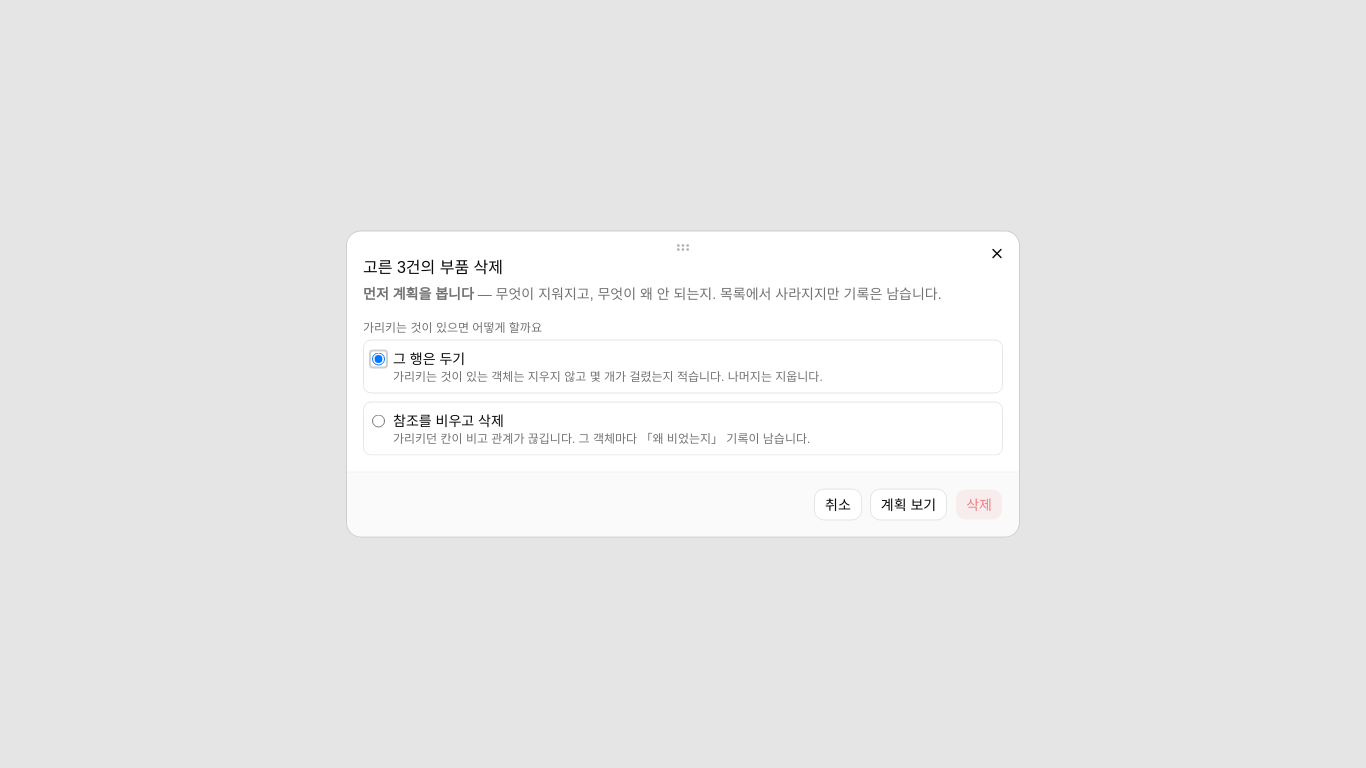
Test case: 여럿 골라 삭제 › 계획을 먼저 보고, 지울 것이 있어야 삭제할 수 있다
The width and height of the screenshot is (1366, 768).
Expected: the button "삭제" is disabled, [955,488,1003,520]
Click the button "계획 보기": (908, 504) [870,488,947,520]
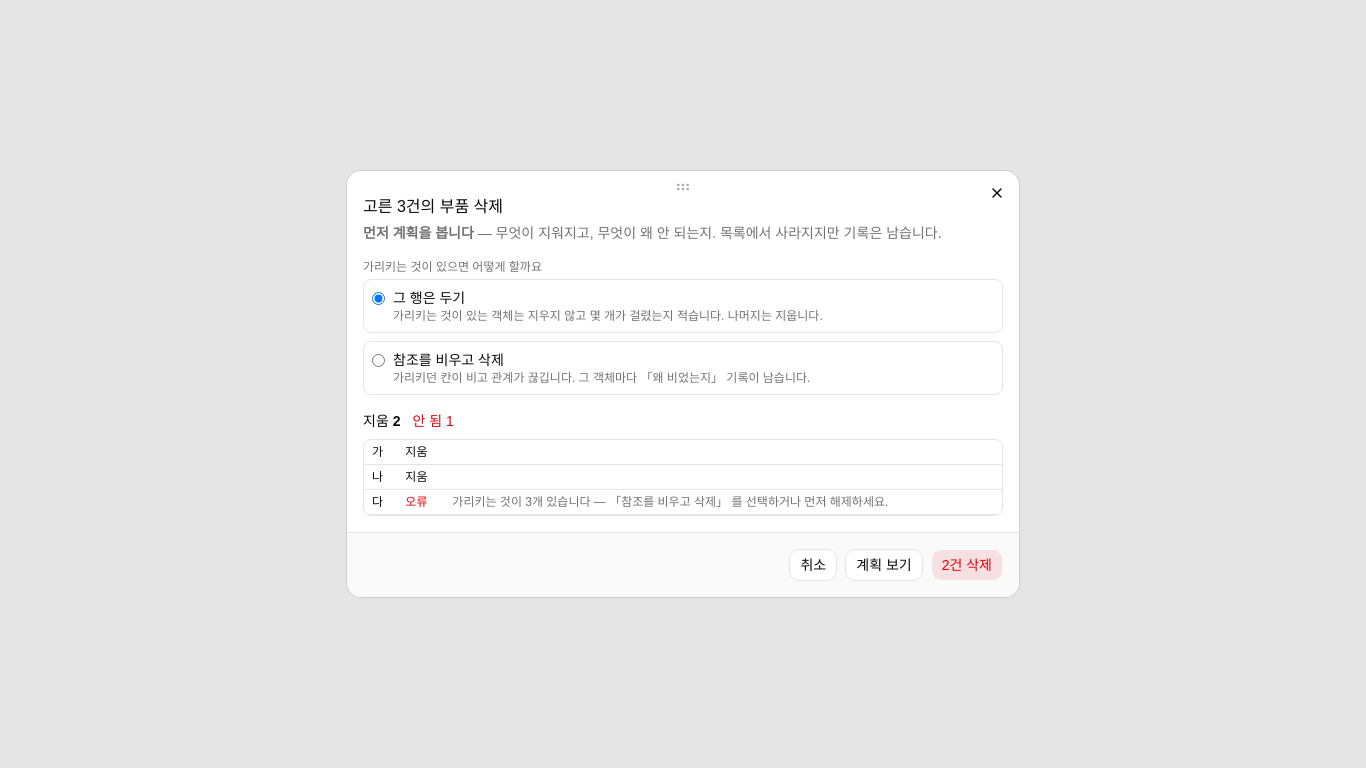
Now the button "2건 삭제" is enabled, box [931,549,1003,581]
